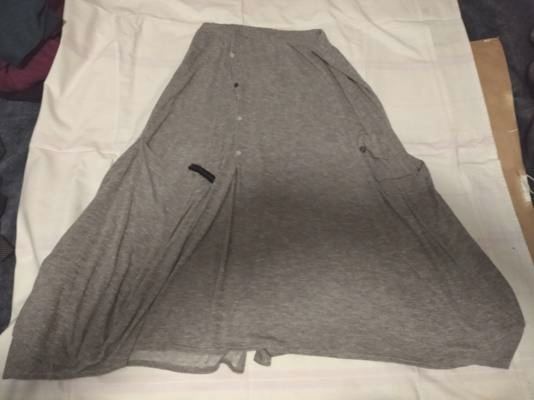Dress: (31, 17, 522, 384)
